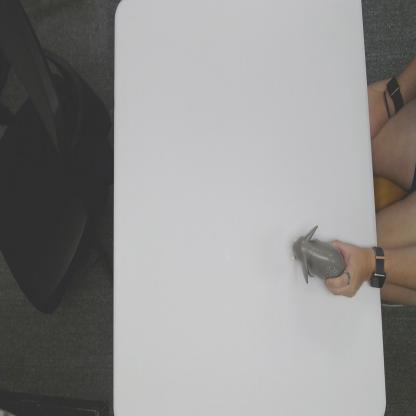Elephant: (292, 225, 347, 283)
Hand: (325, 238, 367, 302)
